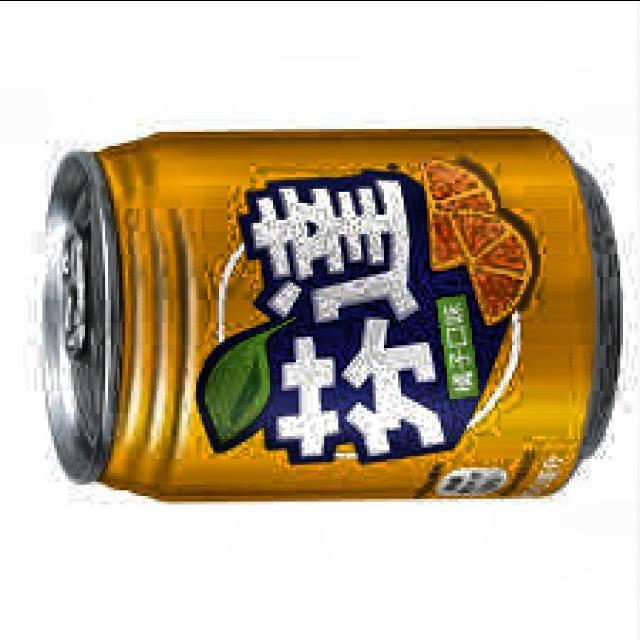litter: (30, 116, 639, 520)
